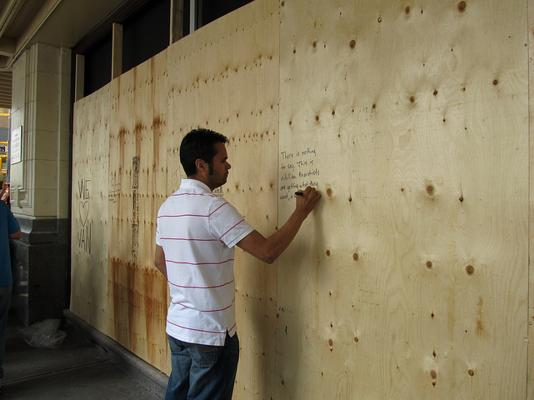person: (153, 128, 322, 400)
